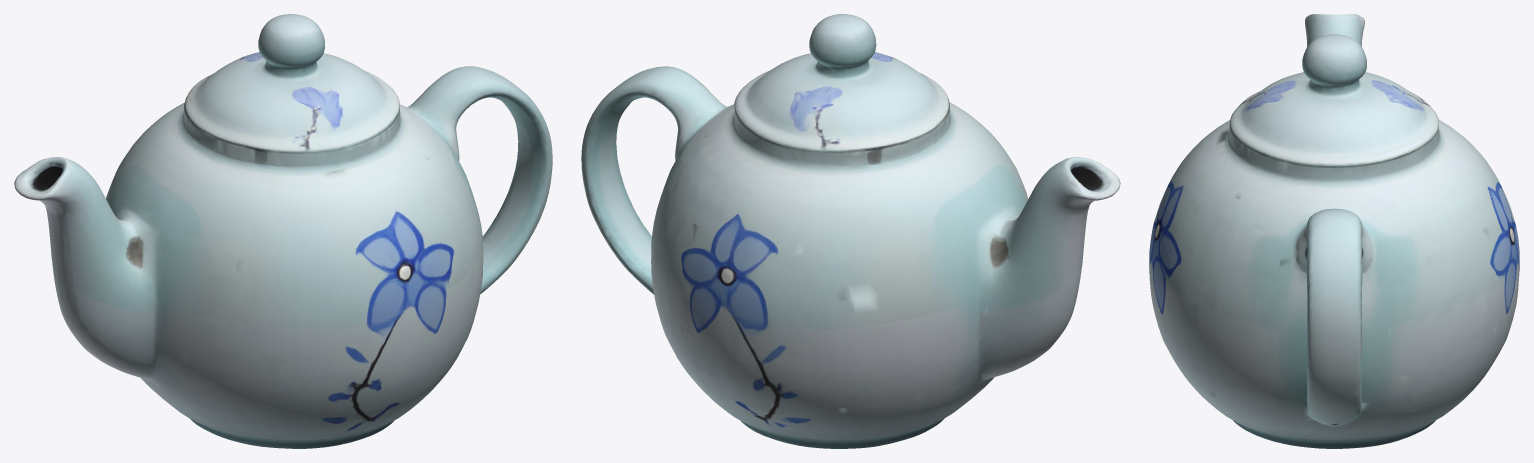
File: asset.glb
3 renders of one model, left to right at view 1: azimuth 30°, elevation 25°; view 2: azimuth 150°, elevation 25°; view 3: azimuth 270°, elevation 25°, orthographic. The views are drawn at different scales.
Parts seen in each view (by area): view 1: world; view 2: world; view 3: world.
Part boxes in pixels (x1,y1,x2,y2): world: (14, 14, 552, 448); world: (581, 14, 1120, 448); world: (1149, 14, 1519, 448).
Bounding box in the file's own units: 1 × 0.7004 × 0.642.
1 material, 1 textured.
